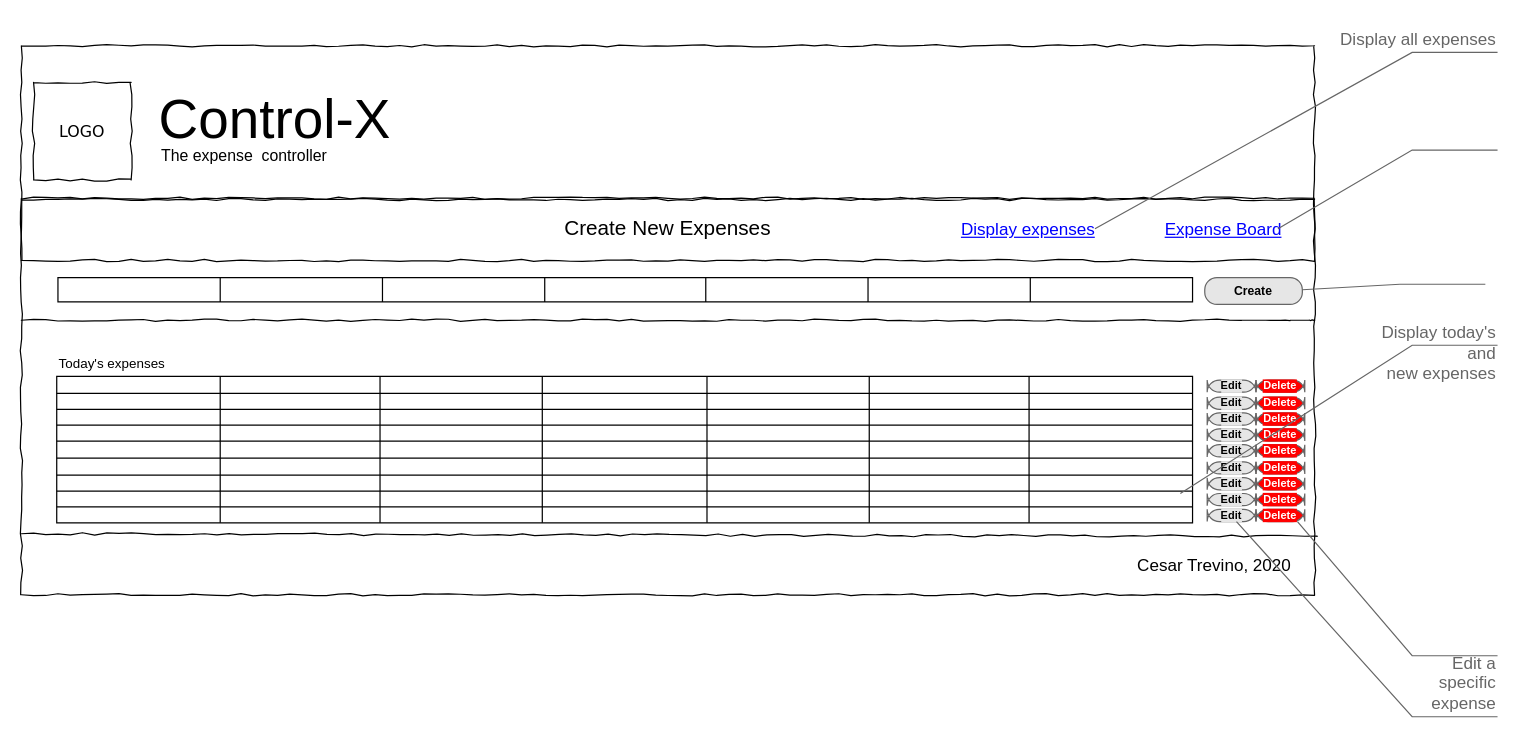
The diagram is 1519 pixels wide and 738 high, and some of its shapes have lost their labels. Each missing label, with the centre of its shape:
Create a new record: the point at 1393,271
Delete a specific expense: the point at 1397,588
Display the Expense Board: the point at 1387,173
